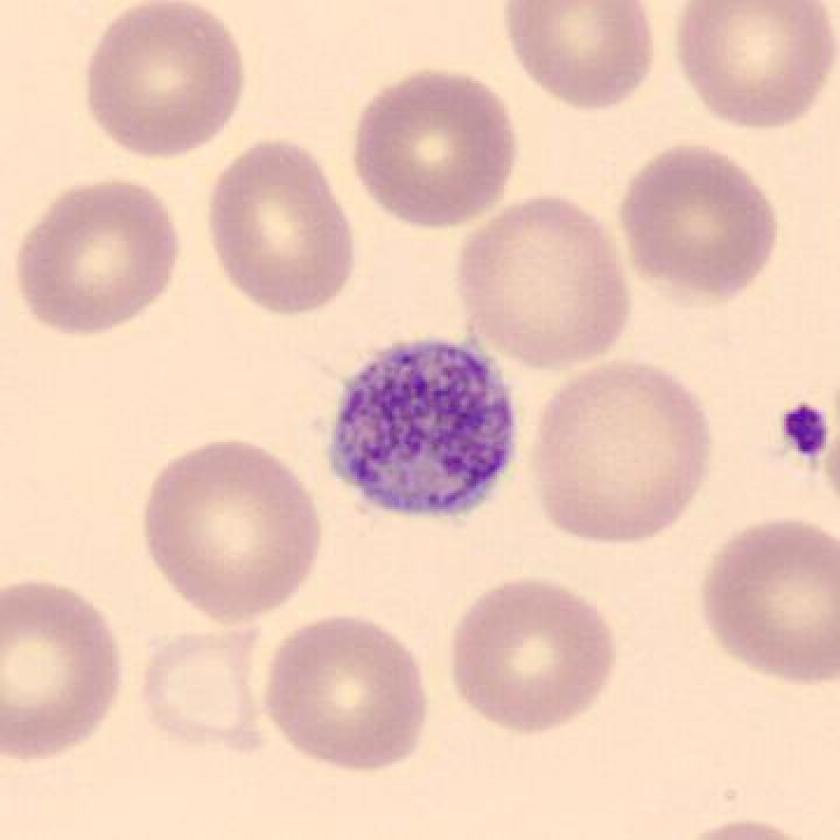platelets: (321, 325, 521, 531), (764, 392, 840, 485)
